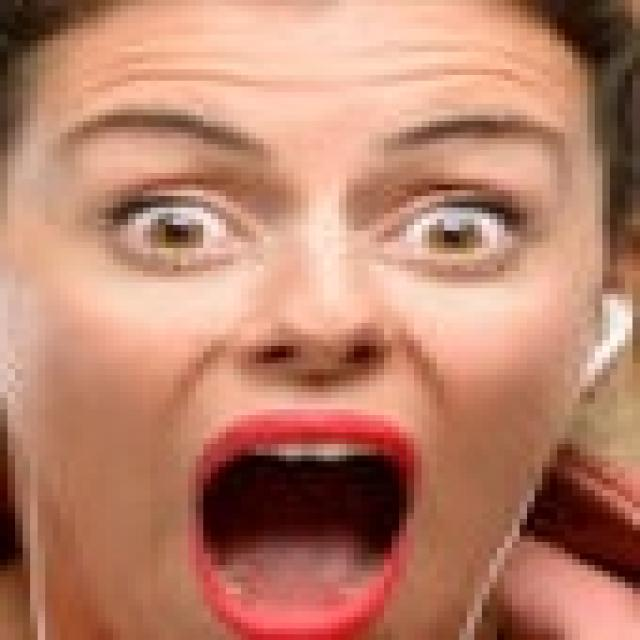Anxiety: (8, 0, 616, 634)
